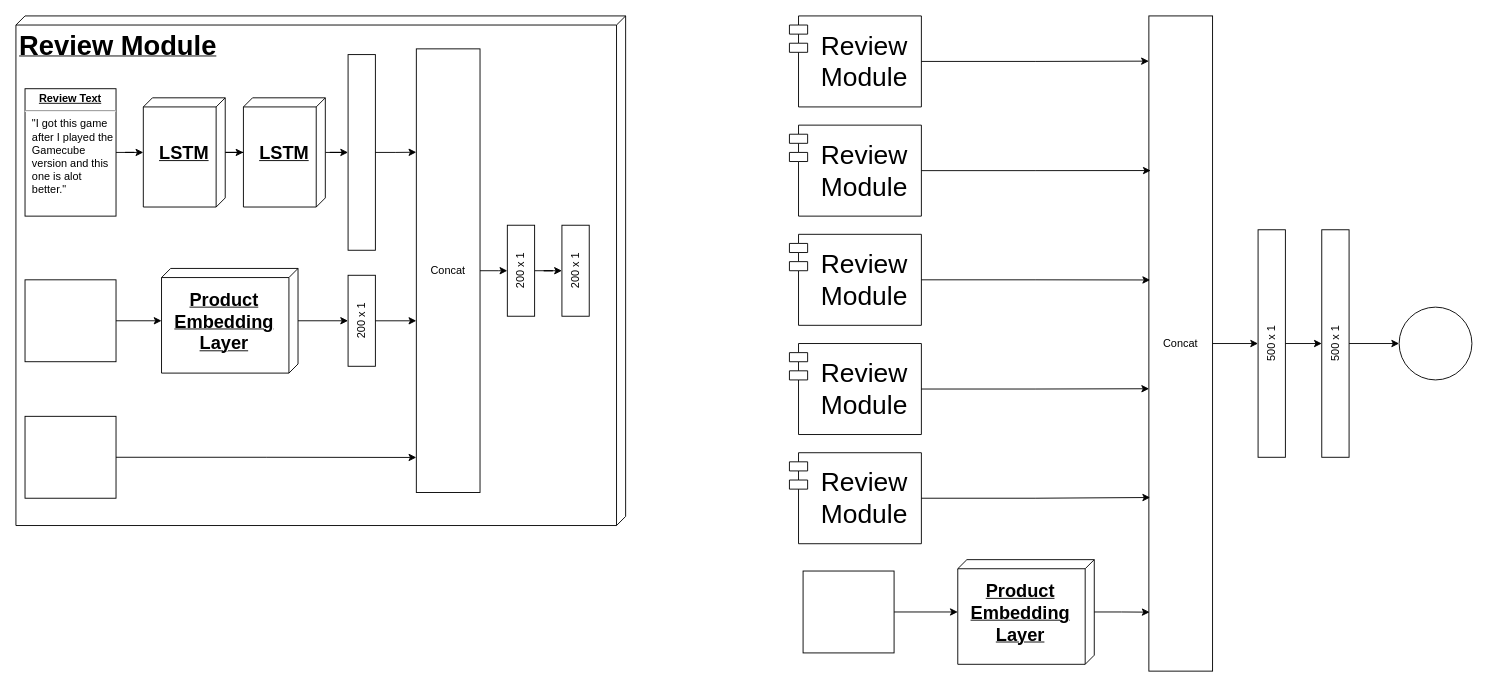
The diagram is 1488 pixels wide and 687 high, and some of its shapes have lost their labels. Here are the shapes that lost their labels. From the top down, the centre of each, then its label:
pixel 361 152: 600x 1
pixel 70 320: Product Id B00006F7RS
pixel 1435 343: Output
pixel 70 456: User's Rating 4.0
pixel 848 611: Target Product Id B0017HPE7E
